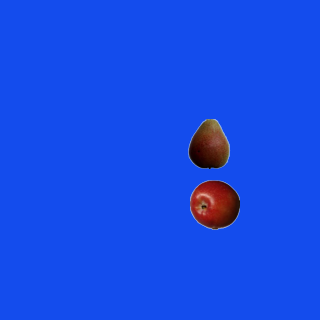Apple Braeburn: (189, 179, 239, 229)
Pear Forelle: (183, 118, 233, 168)
